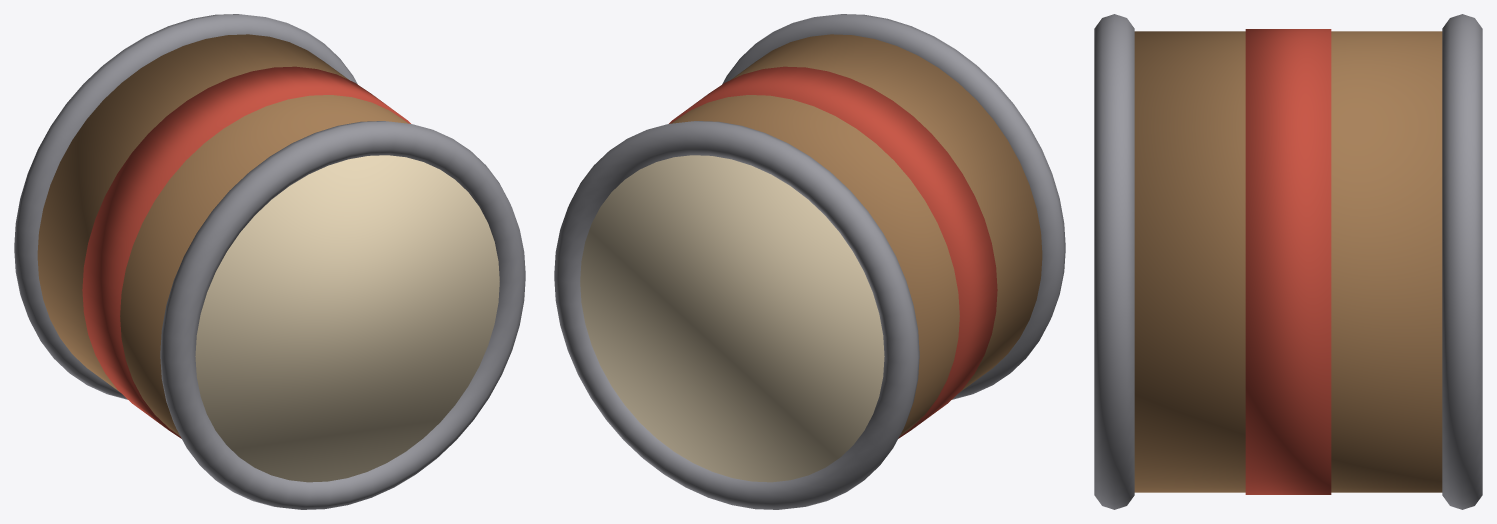
File: drum.glb
The picture shows the model from 3 angles, left to right: view 1: azimuth 30°, elevation 25°; view 2: azimuth 150°, elevation 25°; view 3: azimuth 270°, elevation 25°; orthographic projection. The views are drawn at different scales.
Parts seen in each view (by area): view 1: head-1, shell, hoop-1, band, hoop+1; view 2: head+1, shell, hoop+1, band, hoop-1; view 3: shell, band, hoop+1, hoop-1.
Boxes of the visible parts, left/top/right/bottom form: head-1: left=195, top=155, right=499, bottom=482; shell: left=37, top=34, right=408, bottom=436; hoop-1: left=160, top=121, right=525, bottom=509; band: left=82, top=66, right=410, bottom=438; hoop+1: left=14, top=14, right=357, bottom=399; head+1: left=580, top=155, right=884, bottom=482; shell: left=671, top=34, right=1042, bottom=436; hoop+1: left=554, top=121, right=919, bottom=509; band: left=669, top=66, right=997, bottom=438; hoop-1: left=722, top=14, right=1065, bottom=399; shell: left=1134, top=31, right=1442, bottom=492; band: left=1245, top=29, right=1331, bottom=494; hoop+1: left=1442, top=14, right=1482, bottom=509; hoop-1: left=1094, top=14, right=1134, bottom=509.
Bounding box in the file's own units: 0.28 × 0.28 × 0.2188.
